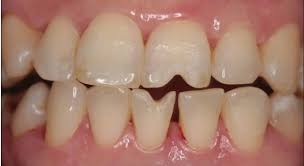normal: (77, 17, 144, 87), (34, 16, 79, 79), (45, 79, 88, 144), (224, 88, 267, 150), (87, 88, 132, 144), (14, 81, 44, 136), (267, 92, 303, 137)
rough: (144, 21, 210, 89), (132, 89, 171, 146)
yellow: (260, 21, 302, 90), (210, 24, 258, 83), (179, 89, 224, 146), (3, 15, 33, 75)
